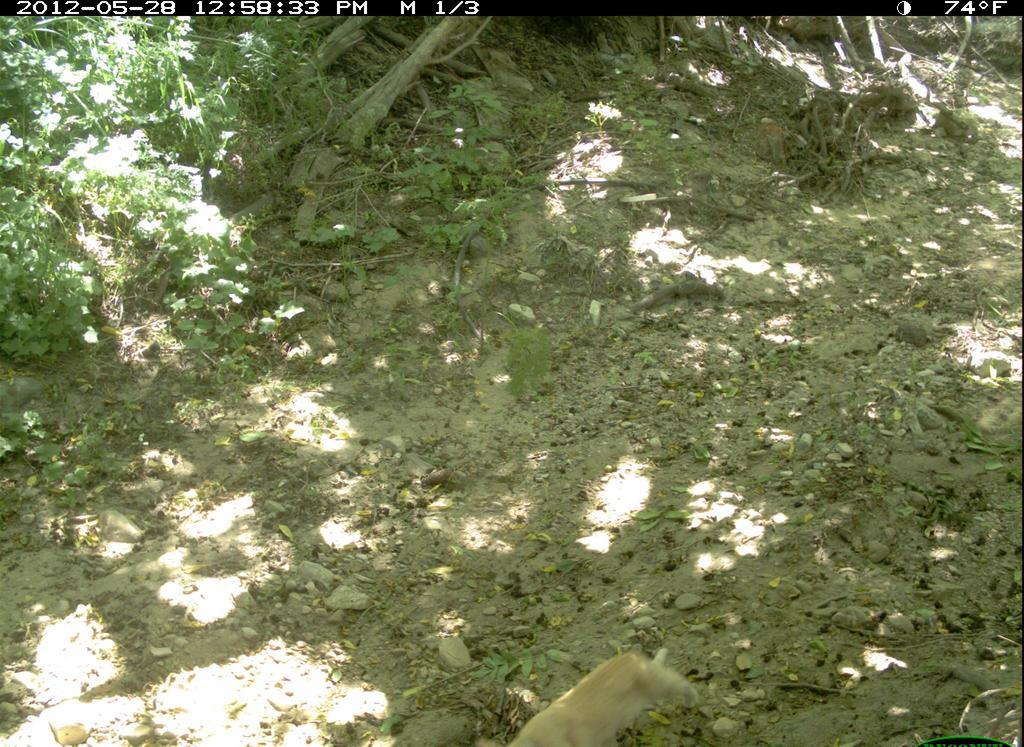cat: (504, 630, 715, 744)
